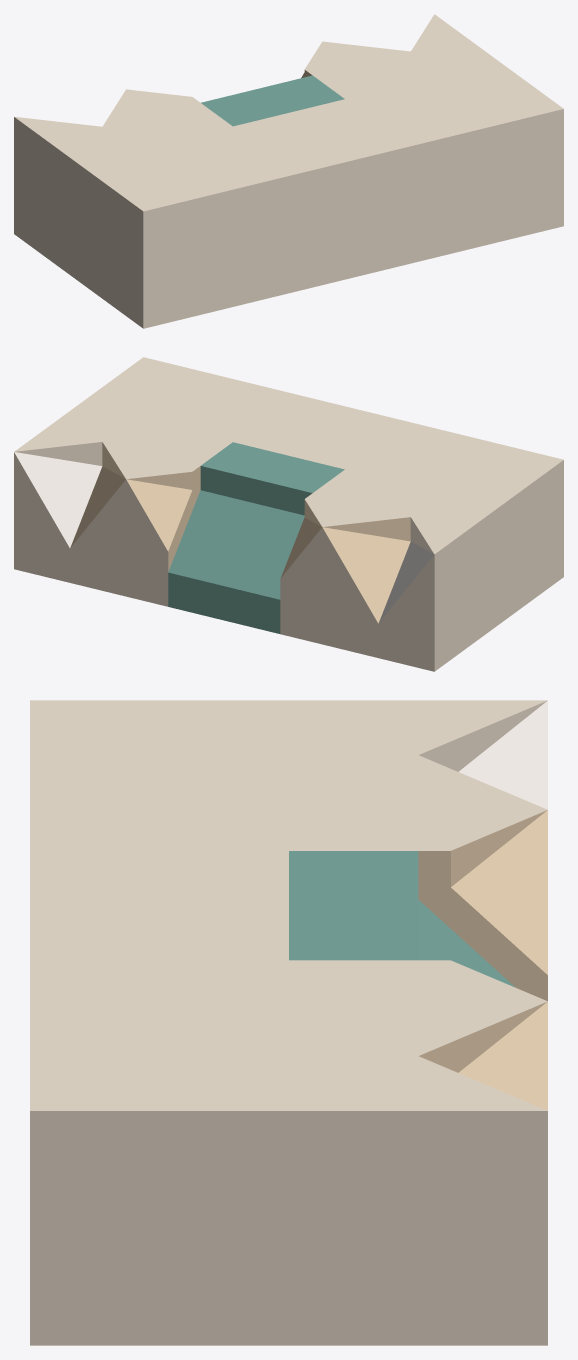
File: Puzzle_Floor_Wall_Conduit_Connector.glb
3 renders of one model, top to bottom at view 1: azimuth 30°, elevation 25°; view 2: azimuth 150°, elevation 25°; view 3: azimuth 270°, elevation 25°, orthographic. The views are drawn at different scales.
Parts seen in each view (by area): view 1: Puzzle_Floor_Wall_Conduit_Connector; view 2: Puzzle_Floor_Wall_Conduit_Connector; view 3: Puzzle_Floor_Wall_Conduit_Connector.
Part boxes in pixels (x1=…): Puzzle_Floor_Wall_Conduit_Connector: x1=14, y1=14, x2=563, y2=328; Puzzle_Floor_Wall_Conduit_Connector: x1=14, y1=357, x2=563, y2=671; Puzzle_Floor_Wall_Conduit_Connector: x1=30, y1=700, x2=547, y2=1345.
Bounding box in the file's own units: 0.375 × 0.1 × 0.2.
